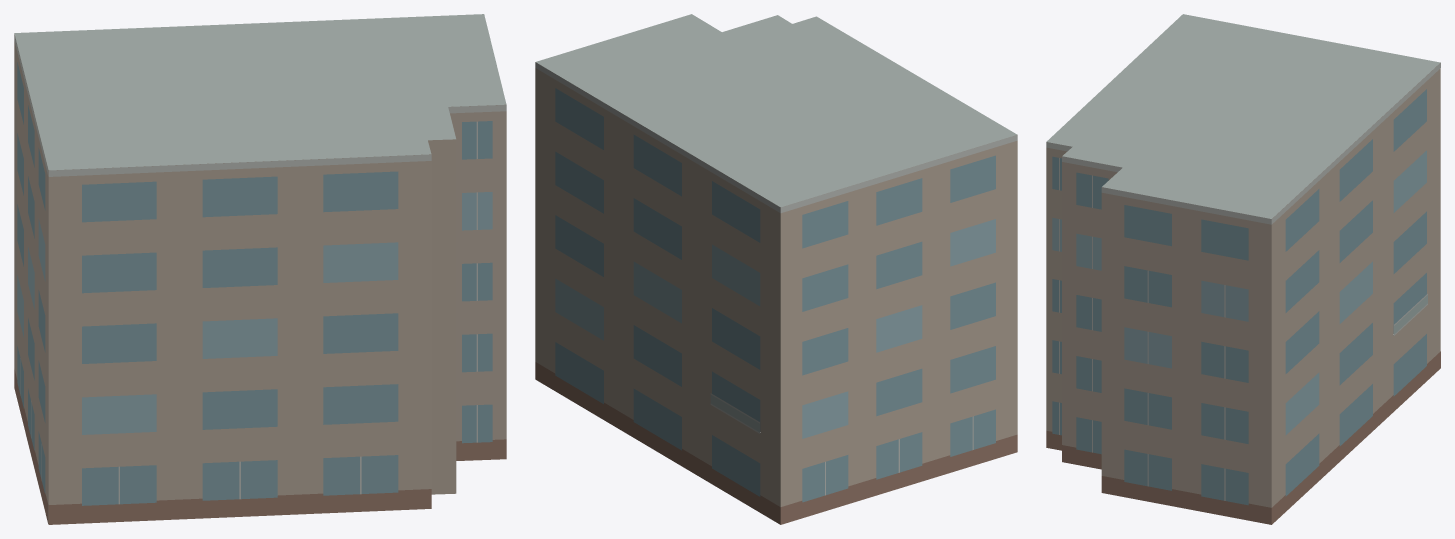
File: survey-upis-32672310.glb
The picture shows the model from 3 angles, left to right: view 1: azimuth 30°, elevation 25°; view 2: azimuth 150°, elevation 25°; view 3: azimuth 270°, elevation 25°; orthographic projection. The views are drawn at different scales.
Parts seen in each view (by area): view 1: survey-upis-32672310.tmp; view 2: survey-upis-32672310.tmp; view 3: survey-upis-32672310.tmp.
Part boxes in pixels (bbox=[...]): survey-upis-32672310.tmp: bbox=[14, 14, 506, 524]; survey-upis-32672310.tmp: bbox=[535, 14, 1017, 524]; survey-upis-32672310.tmp: bbox=[1046, 14, 1440, 524].
Size of the model in its own units: 18.99 by 13.2 by 15.44.
